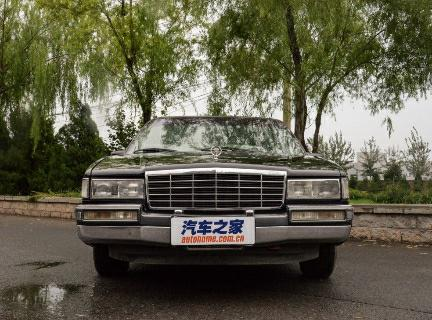凯迪拉克-DeVille: (71, 110, 362, 291)
